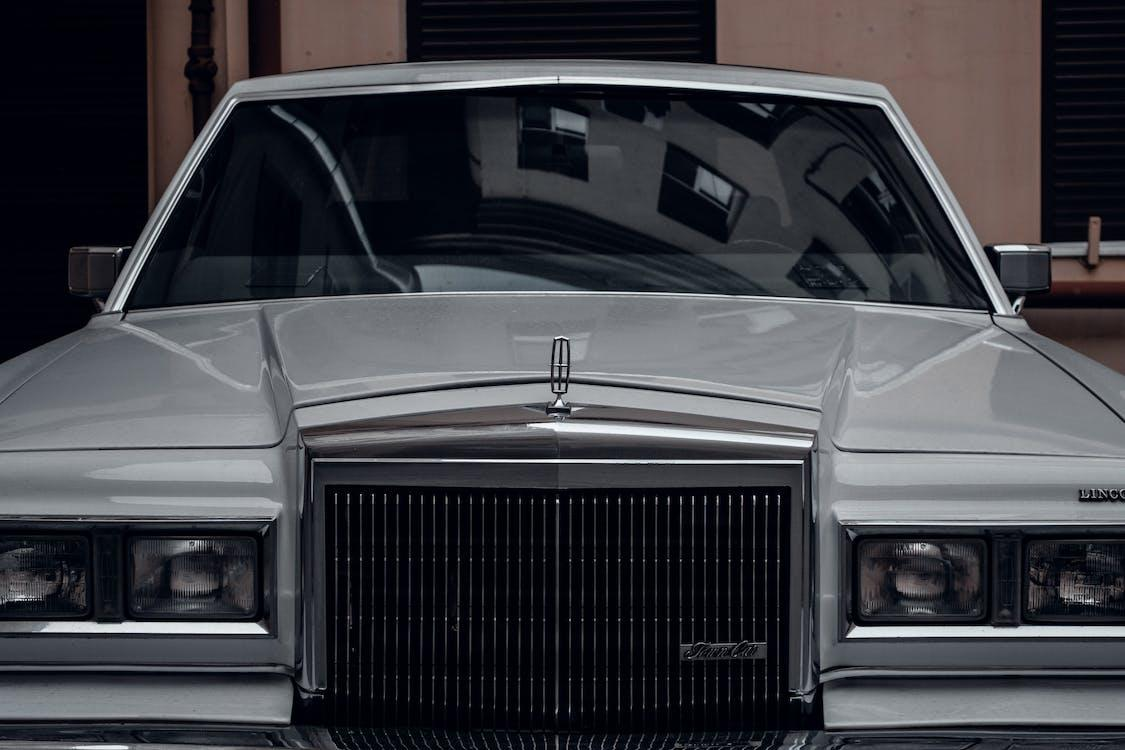lincoln: (546, 330, 582, 411)
